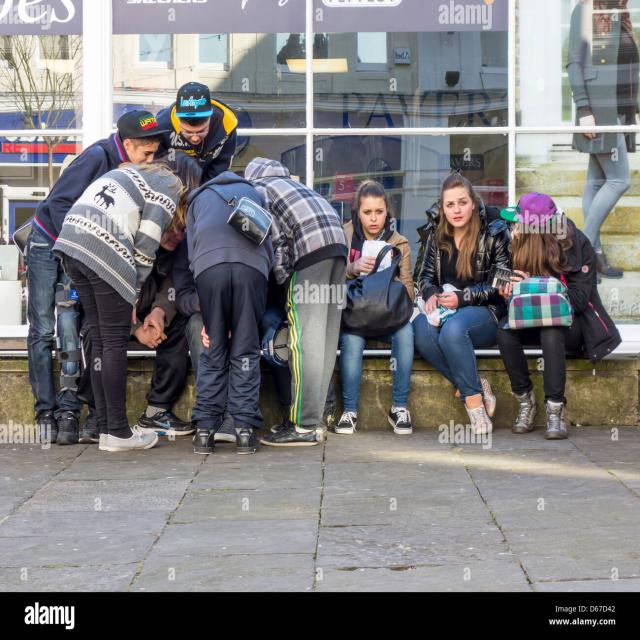human: (432, 170, 488, 280), (509, 195, 572, 280), (174, 81, 213, 118), (308, 282, 347, 308), (607, 286, 640, 314)
loitering: (15, 86, 328, 443), (492, 194, 617, 424), (409, 167, 511, 445), (182, 163, 276, 452), (104, 166, 202, 428), (31, 109, 186, 248), (564, 3, 635, 267), (331, 180, 398, 426), (14, 221, 92, 426), (292, 191, 348, 425), (149, 79, 236, 179), (258, 273, 294, 402)
